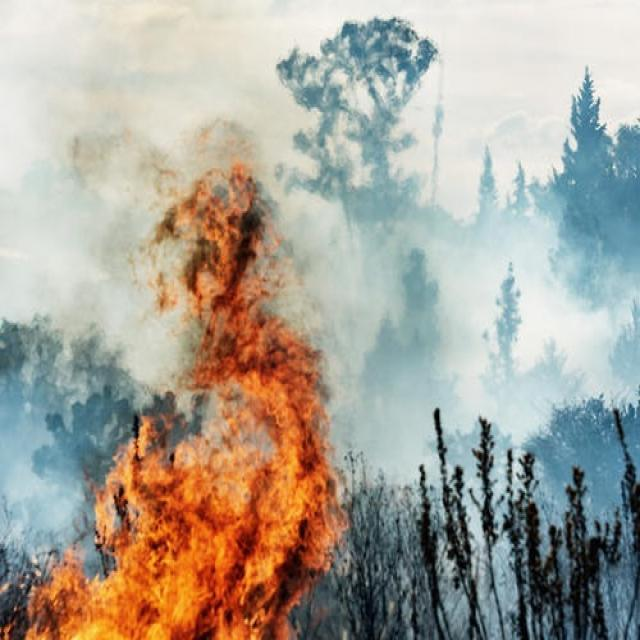Fire: (0, 163, 358, 640)
Smoke: (0, 352, 90, 556)
